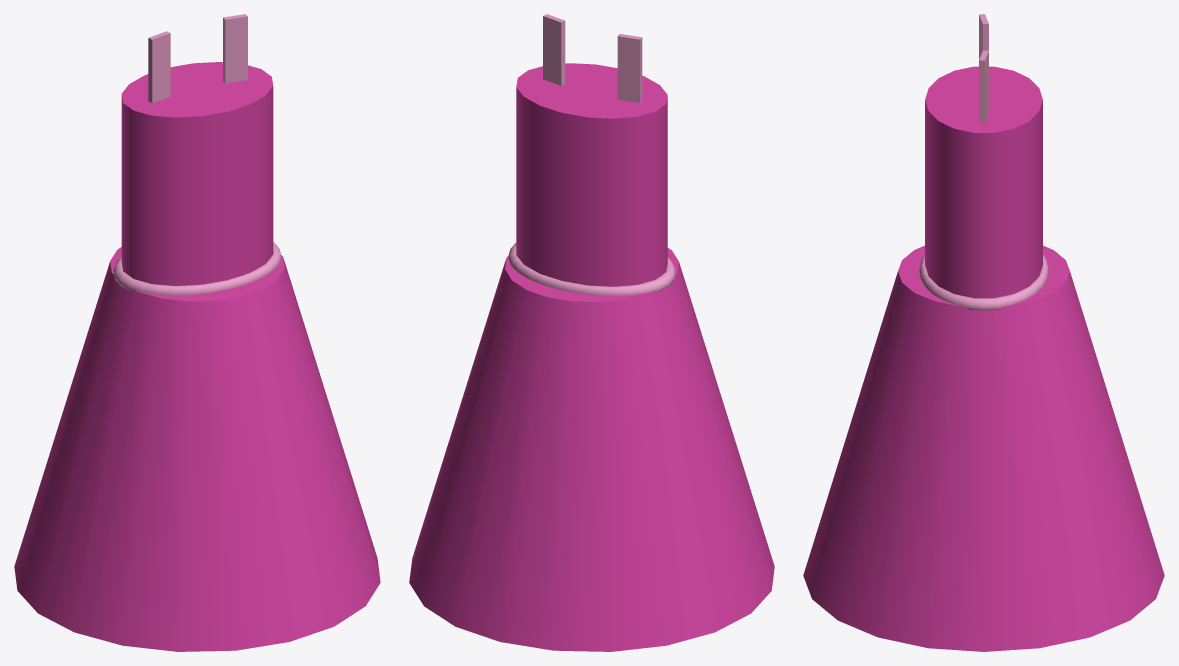
Rendered from VM-DAM-ATELIER.glb.
The picture shows the model from 3 angles, left to right: view 1: azimuth 30°, elevation 25°; view 2: azimuth 150°, elevation 25°; view 3: azimuth 270°, elevation 25°; orthographic projection.
Parts seen in each view (by area): view 1: Vestido Asimétrico Magenta Atelier; view 2: Vestido Asimétrico Magenta Atelier; view 3: Vestido Asimétrico Magenta Atelier.
Boxes of the visible parts, <box> form: Vestido Asimétrico Magenta Atelier: <box>14,14,380,651</box>; Vestido Asimétrico Magenta Atelier: <box>409,14,774,651</box>; Vestido Asimétrico Magenta Atelier: <box>803,14,1164,651</box>.
Size of the model in its own units: 0.798 by 1.31 by 0.798.
